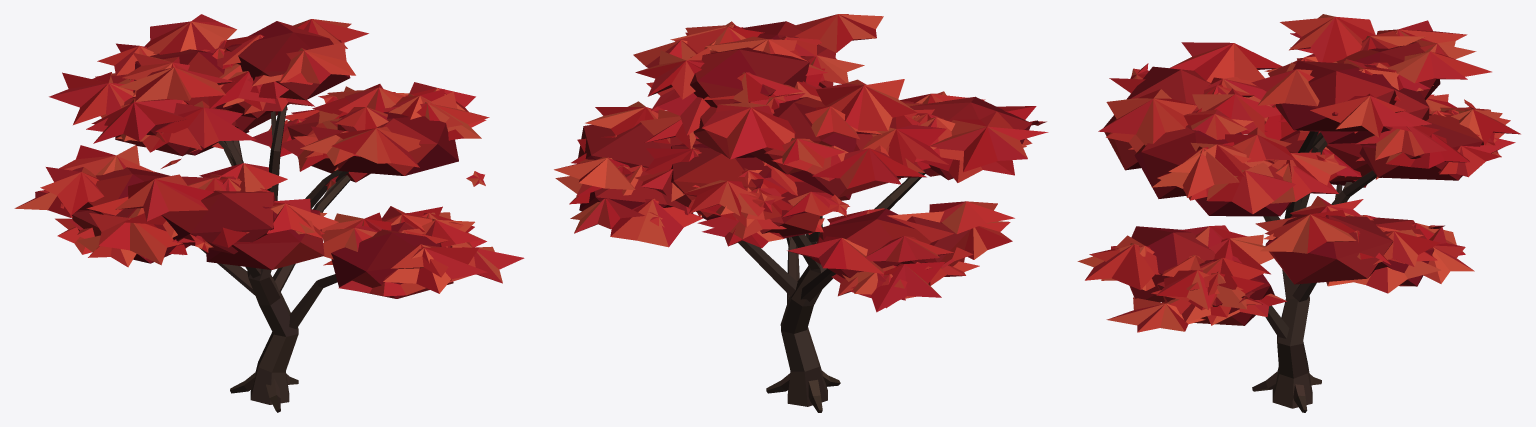
Rendered from zen_maple_red.glb.
3 views of the same model, side by side, from view 1: azimuth 30°, elevation 25°; view 2: azimuth 150°, elevation 25°; view 3: azimuth 270°, elevation 25° (orthographic). The views are drawn at different scales.
Parts seen in each view (by area): view 1: zen_maple_red; view 2: zen_maple_red; view 3: zen_maple_red.
Part boxes in pixels (x1,y1,x2,y2): zen_maple_red: (14,14,524,412); zen_maple_red: (554,14,1048,412); zen_maple_red: (1077,14,1520,412).
Size of the model in its own units: 8.43 by 7.03 by 8.08.
